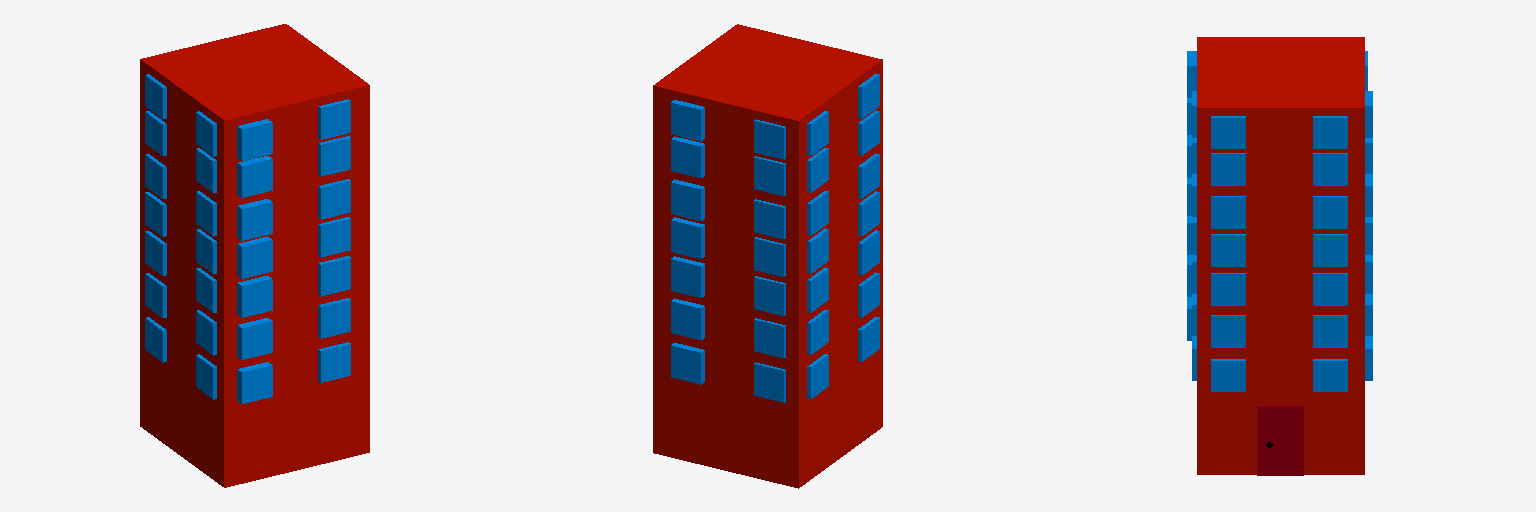
Rendered from house_1.obj.
3 views of the same model, side by side, from view 1: azimuth 30°, elevation 25°; view 2: azimuth 150°, elevation 25°; view 3: azimuth 270°, elevation 25° (orthographic).
Parts seen in each view (by area): view 1: Cube, Cube.039, Cube.036, Cube.032, Cube.031, Cube.043, Cube.040, Cube.034, Cube.042, Cube.041, Cube.038, Cube.033 (+17 smaller); view 2: Cube, Cube.057, Cube.052, Cube.045, Cube.054, Cube.050, Cube.049, Cube.046, Cube.056, Cube.048, Cube.044, Cube.055 (+17 smaller); view 3: Cube, Cube.001, Cube.002, Cube.003, Cube.005, Cube.004, Cube.007, Cube.006, Cube.009, Cube.008, Cube.011, Cube.010 (+4 smaller).
Boxes of the visible parts, box(x1,y1,x2,y2) form: Cube: box(140, 24, 369, 487); Cube.039: box(237, 199, 272, 240); Cube.036: box(237, 236, 272, 278); Cube.032: box(237, 318, 272, 359); Cube.031: box(237, 362, 272, 403); Cube.043: box(237, 119, 272, 160); Cube.040: box(237, 156, 272, 197); Cube.034: box(237, 275, 272, 317); Cube.042: box(318, 99, 350, 139); Cube.041: box(318, 136, 350, 176); Cube.038: box(318, 179, 350, 219); Cube.033: box(318, 298, 350, 338); Cube: box(653, 24, 882, 488); Cube.057: box(671, 343, 704, 384); Cube.052: box(671, 256, 704, 297); Cube.045: box(671, 100, 704, 141); Cube.054: box(671, 298, 704, 339); Cube.050: box(671, 217, 704, 258); Cube.049: box(671, 179, 704, 220); Cube.046: box(671, 136, 704, 177); Cube.056: box(754, 362, 785, 402); Cube.048: box(754, 199, 785, 238); Cube.044: box(754, 119, 785, 159); Cube.055: box(754, 318, 785, 357); Cube: box(1197, 37, 1364, 474); Cube.001: box(1257, 405, 1303, 475); Cube.002: box(1211, 359, 1245, 391); Cube.003: box(1313, 359, 1347, 391); Cube.005: box(1211, 315, 1245, 347); Cube.004: box(1313, 315, 1347, 347); Cube.007: box(1211, 273, 1245, 305); Cube.006: box(1313, 273, 1347, 305); Cube.009: box(1211, 234, 1245, 266); Cube.008: box(1313, 234, 1347, 266); Cube.011: box(1313, 196, 1347, 228); Cube.010: box(1211, 196, 1245, 228).
Bounding box in the file's own units: 10.12 × 23.05 × 10.54.